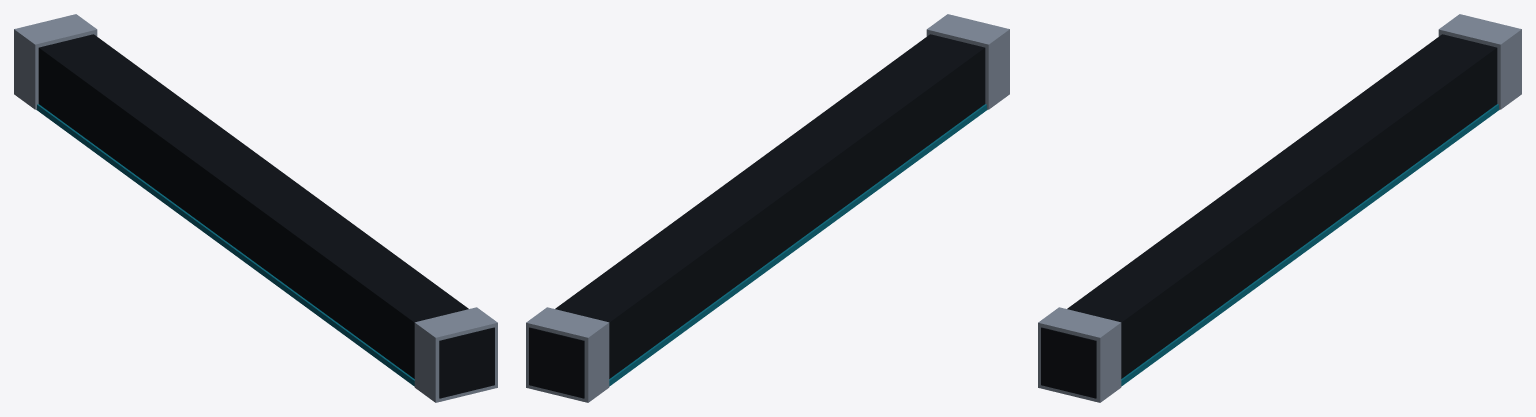
File: SM_Ceiling_Beam_4m.glb
3 renders of one model, left to right at view 1: azimuth 30°, elevation 25°; view 2: azimuth 150°, elevation 25°; view 3: azimuth 330°, elevation 25°, orthographic.
Visible parts, largest first — view 1: SM_Ceiling_Beam_4m-col; view 2: SM_Ceiling_Beam_4m-col; view 3: SM_Ceiling_Beam_4m-col.
Boxes of the visible parts, x1,y1,x2,y2 form: SM_Ceiling_Beam_4m-col: [14, 14, 497, 402]; SM_Ceiling_Beam_4m-col: [526, 14, 1009, 402]; SM_Ceiling_Beam_4m-col: [1038, 14, 1521, 402].
Bounding box in the file's own units: 0.34 × 0.345 × 4.
